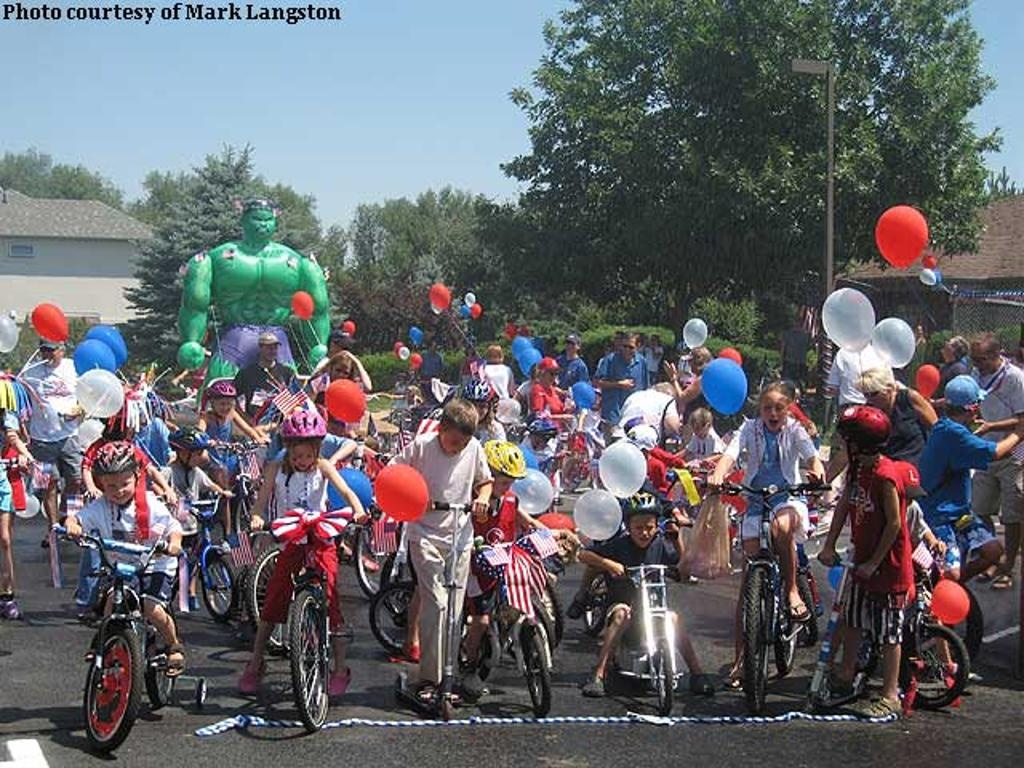human_face: (103, 467, 135, 503), (441, 424, 473, 456), (762, 392, 786, 430), (245, 208, 275, 238), (629, 512, 655, 546), (288, 441, 314, 471), (489, 467, 515, 496), (860, 385, 890, 407), (970, 345, 992, 373), (466, 397, 488, 422), (40, 343, 62, 367), (212, 396, 232, 416), (182, 444, 202, 464), (332, 362, 350, 382), (689, 416, 707, 436), (898, 487, 914, 509), (262, 340, 278, 360), (328, 342, 342, 360), (687, 352, 699, 372), (542, 370, 558, 384), (622, 340, 636, 356), (942, 337, 956, 353), (486, 350, 498, 364), (566, 340, 576, 350), (430, 340, 436, 350), (651, 335, 657, 343), (615, 334, 621, 340), (607, 342, 613, 348), (466, 346, 472, 352)
